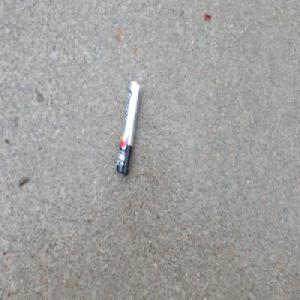Battery: (115, 79, 141, 177)
